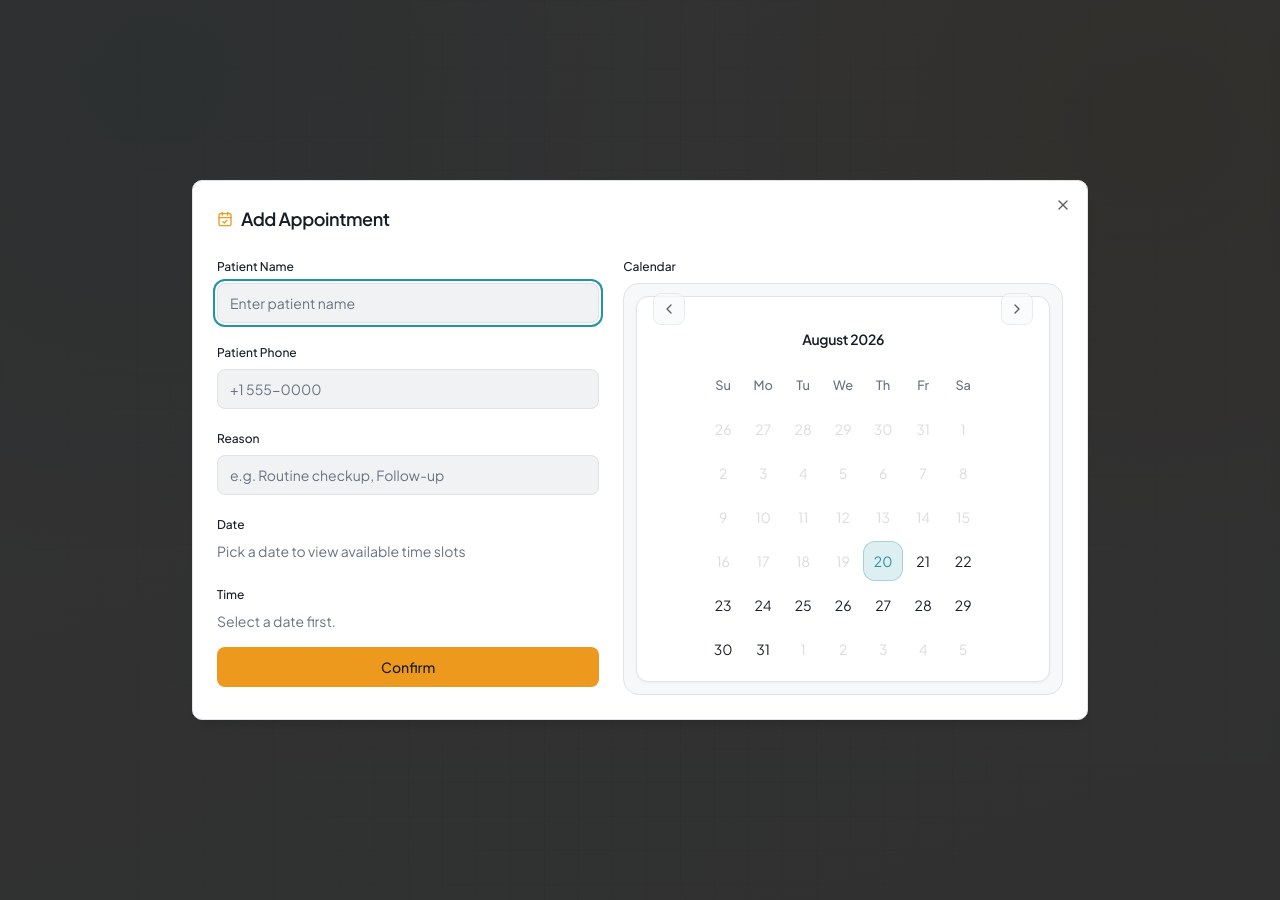
Test: ScheduleDialog › renders date-first guidance and shows validation feedback on submit
The image size is (1280, 900).
Expected: the text "Select a date first." is shown, [217,612,336,630]
Step 1. Click the button "Confirm" → [408, 667], box [217,647,599,687]
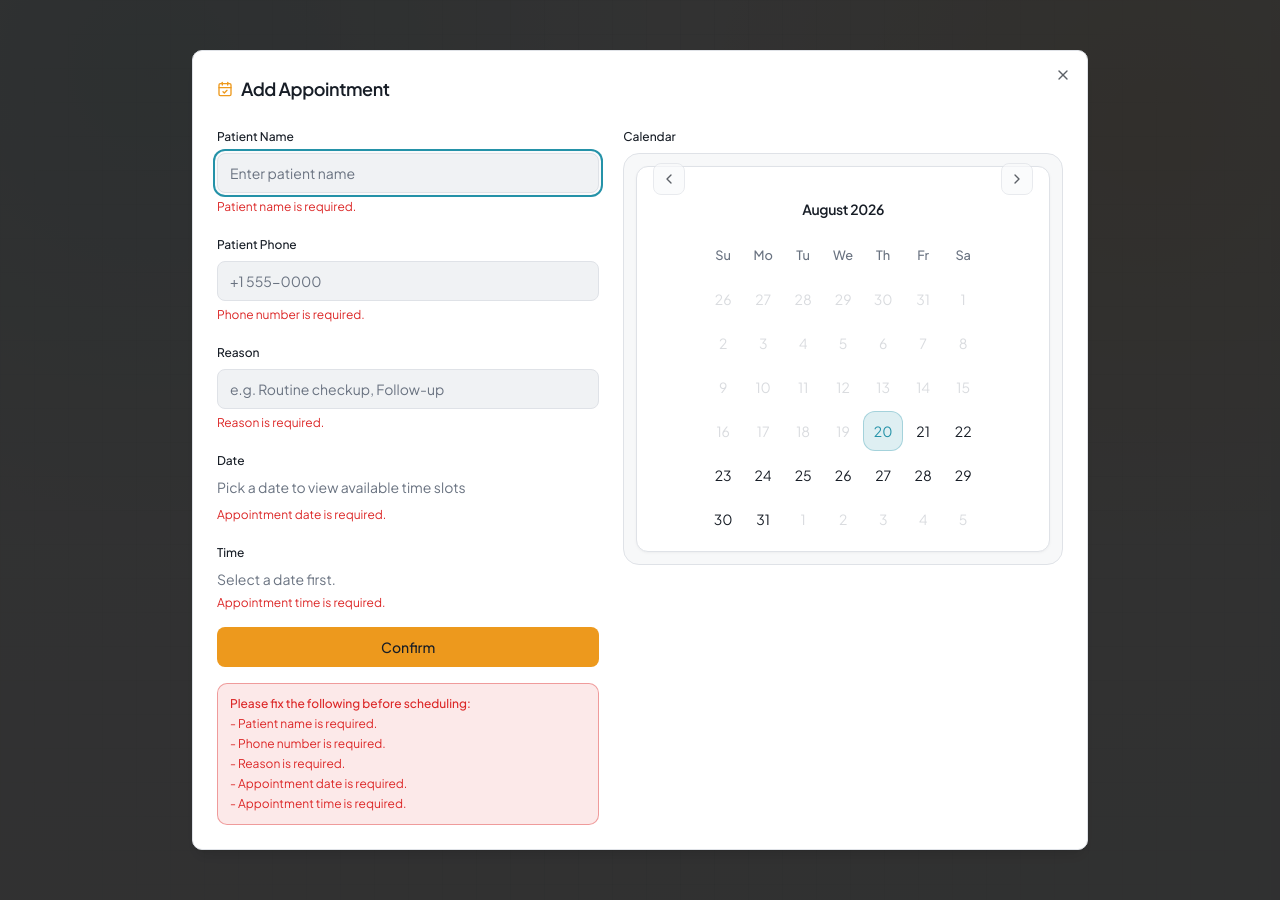
Expected: the text "Please fix the following before scheduling:" is shown, [230,696,471,711]
Expected: the list item "- Phone number is required." is shown, [230,736,386,751]
